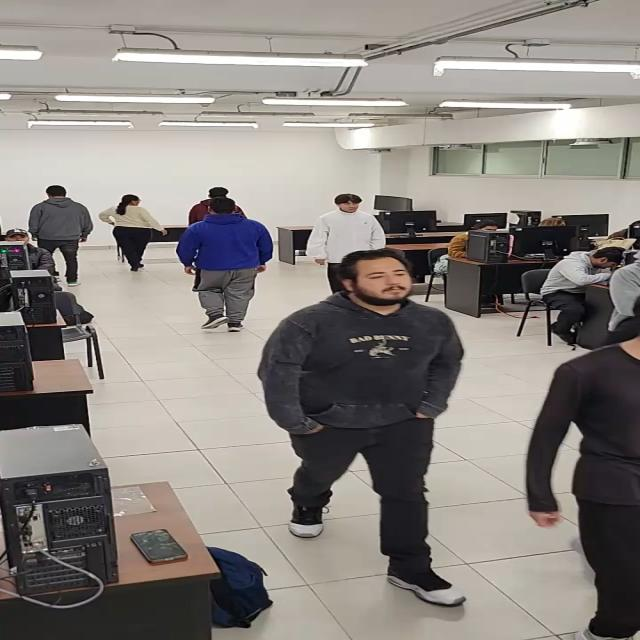Persona: (257, 248, 469, 608), (518, 294, 640, 640), (175, 196, 274, 332), (306, 193, 386, 298), (28, 184, 95, 287), (99, 194, 170, 272), (188, 186, 249, 225)
